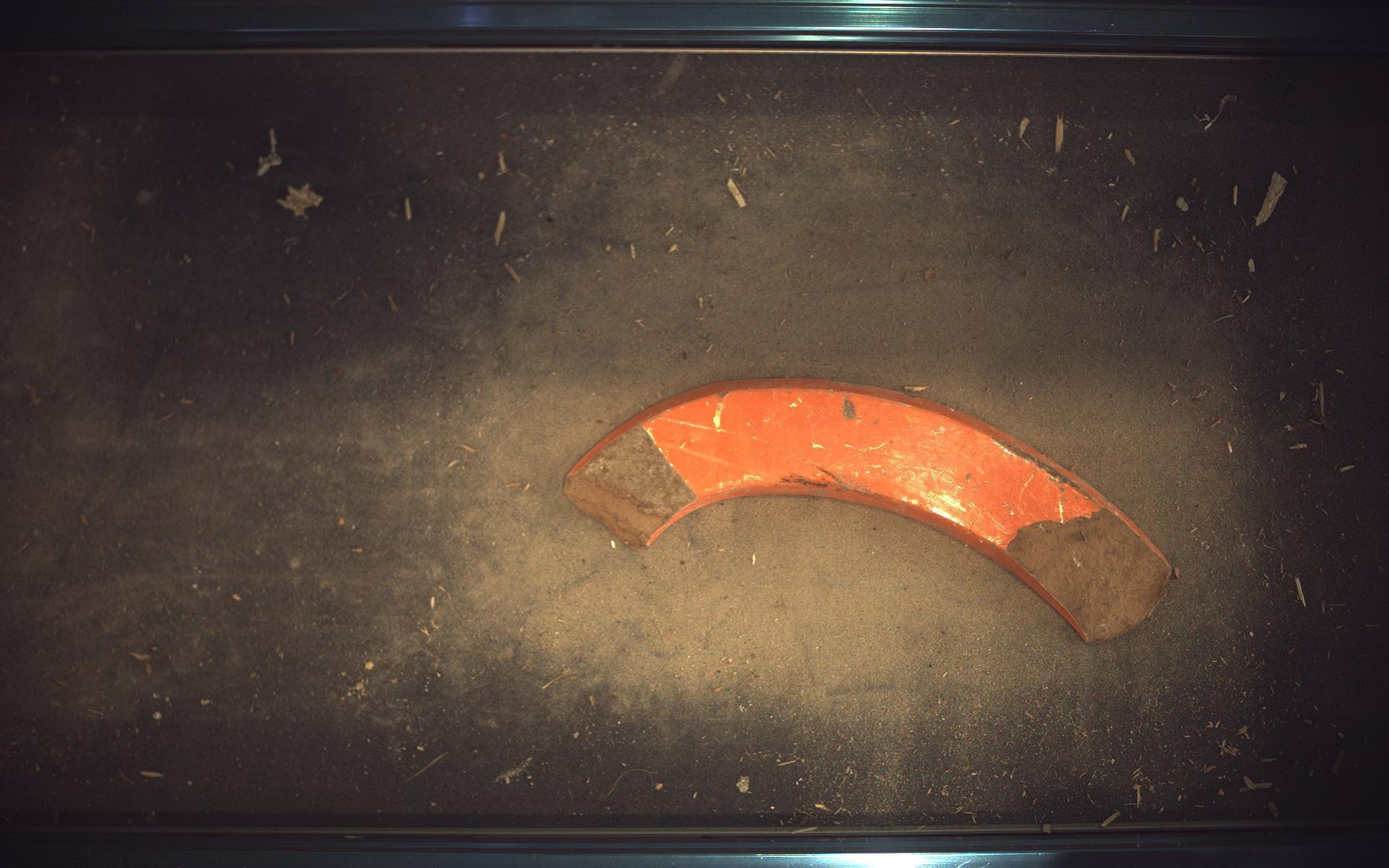wood: (565, 379, 1176, 642)
